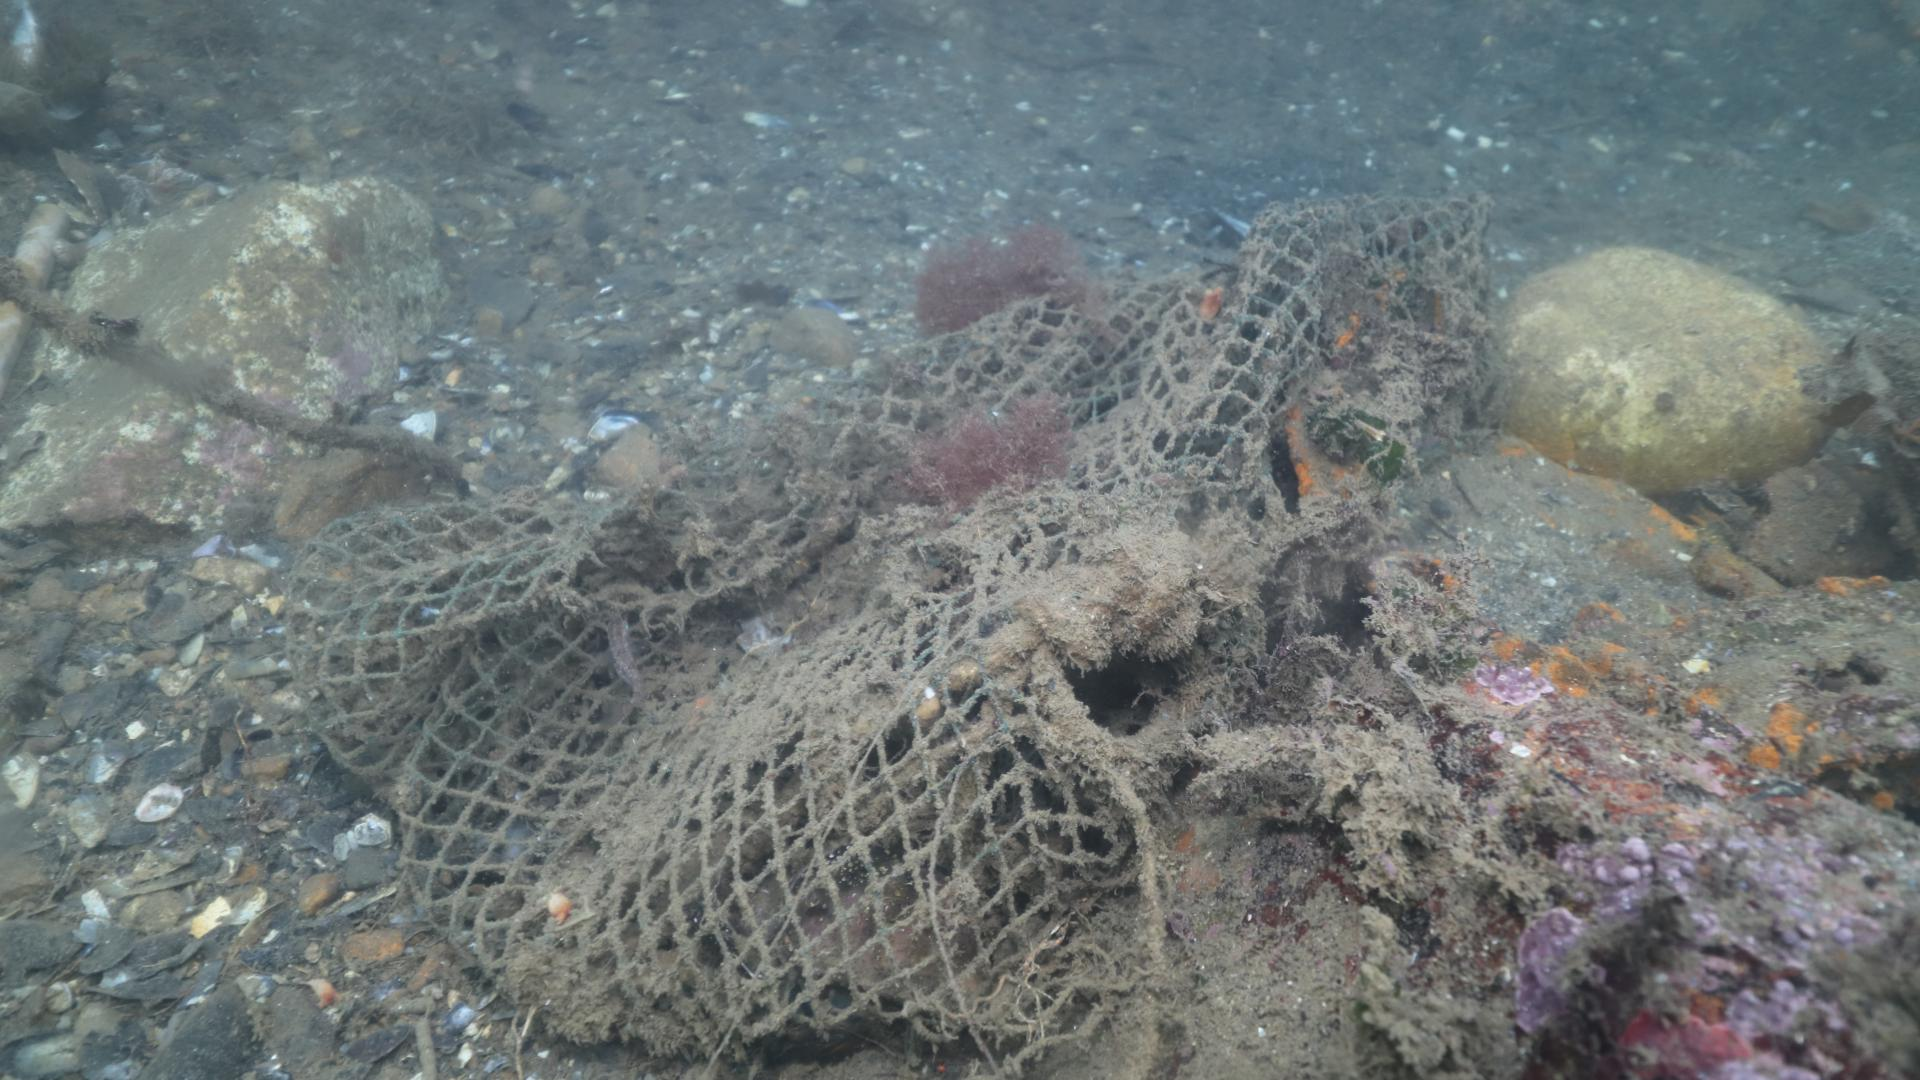fish net: (282, 186, 1499, 1052)
